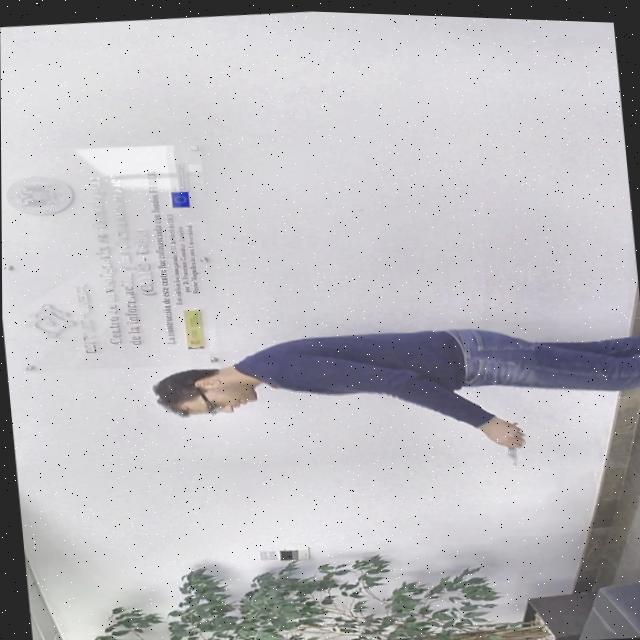knife: (504, 442, 517, 465)
